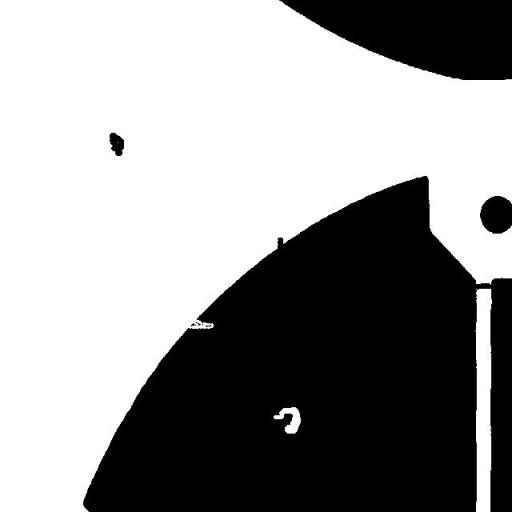copper: (102, 125, 131, 163)
mousebite: (178, 310, 221, 336)
pin-hole: (266, 399, 308, 441)
short: (465, 275, 502, 297)
spur: (270, 230, 290, 258)
